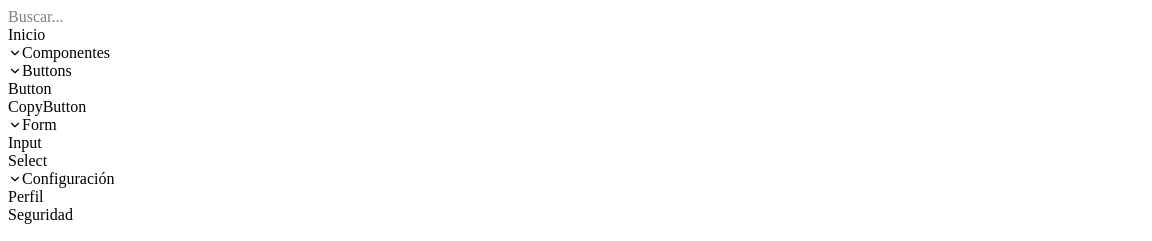
Test: Navbar › filter: item raíz matcheado conserva todo su subárbol
Type "form" into the field with placeholder "Buscar...".
click(576, 17); type("form")  # box [8,8,1144,26]
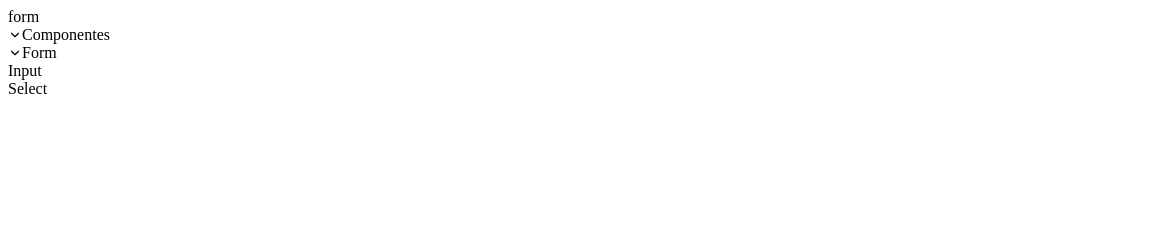
Expected: the text "Componentes" is shown, [22,26,110,44]
Expected: the text "Buttons" is gone
